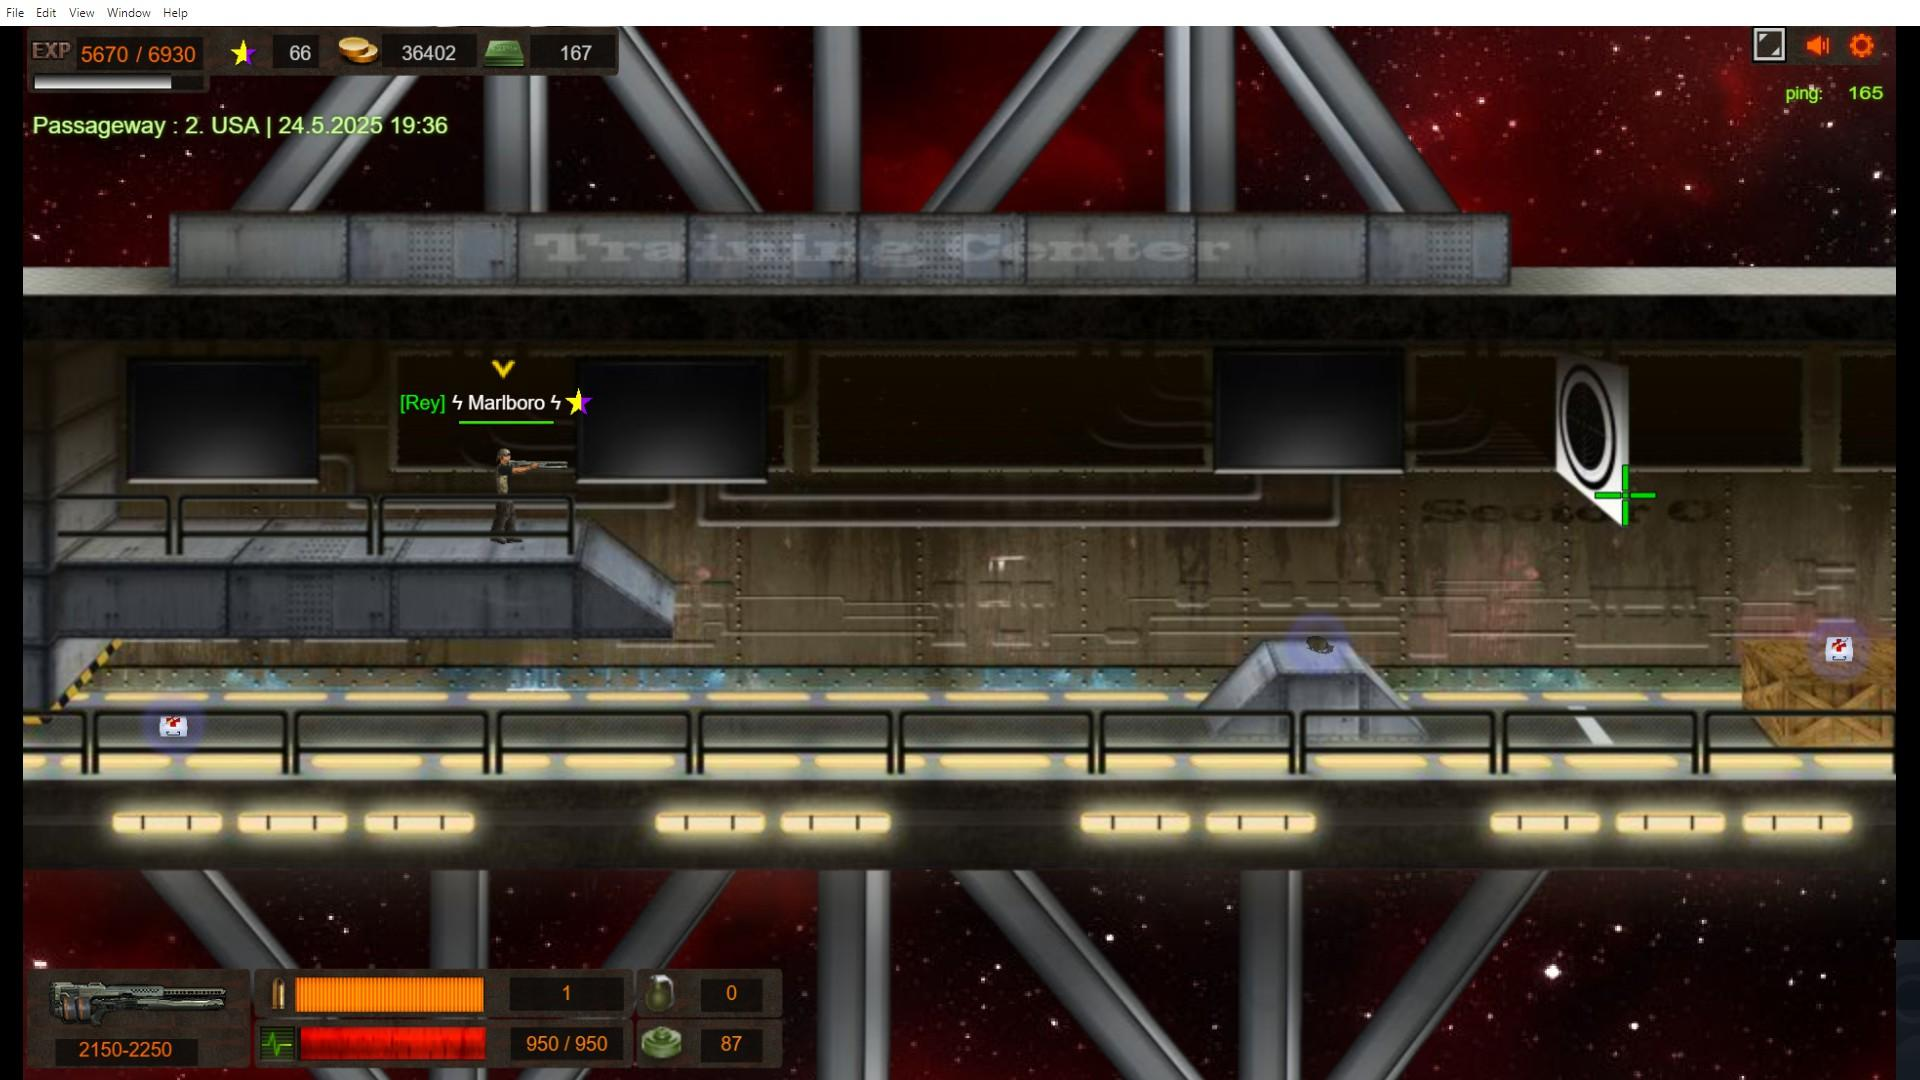enemy: (493, 444, 525, 546)
